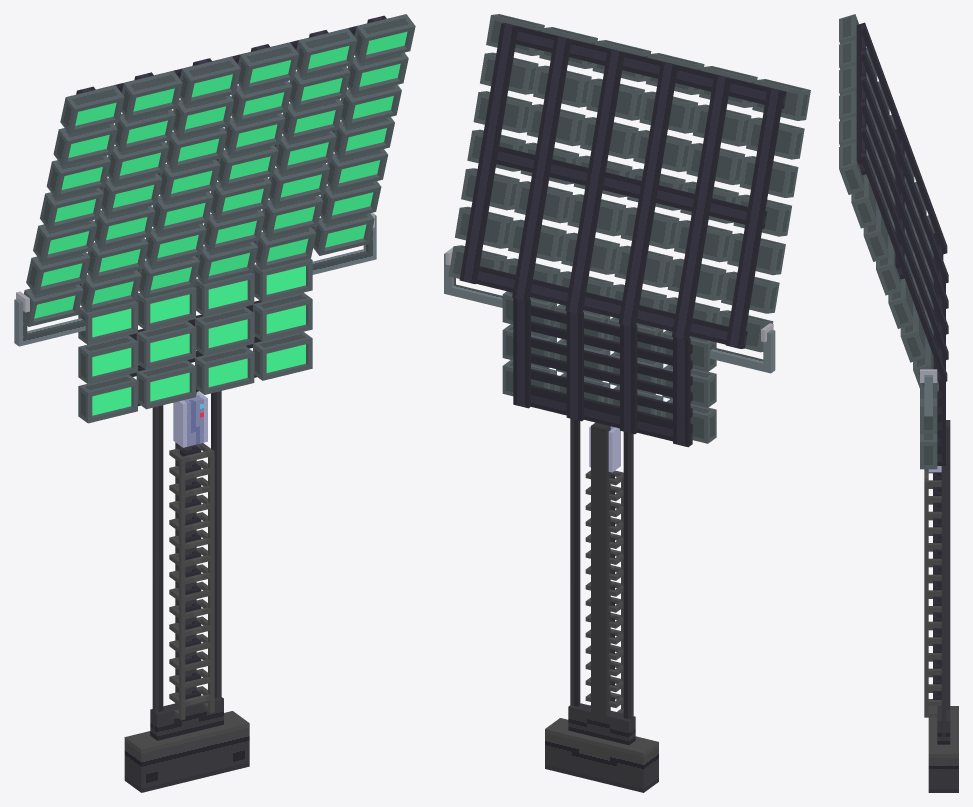
Rendered from 模板赛道聚光灯.gltf.
3 views of the same model, side by side, from view 1: azimuth 30°, elevation 25°; view 2: azimuth 150°, elevation 25°; view 3: azimuth 270°, elevation 25° (orthographic). The views are drawn at different scales.
Parts seen in each view (by area): view 1: Group; view 2: Group; view 3: Group.
Part boxes in pixels (x1,y1,x2,y2): Group: (14, 14, 415, 792); Group: (444, 14, 810, 792); Group: (839, 14, 958, 792).
Bounding box in the file's own units: 86 × 173 × 27.7.
Materials: 1 (1 with a texture image).
